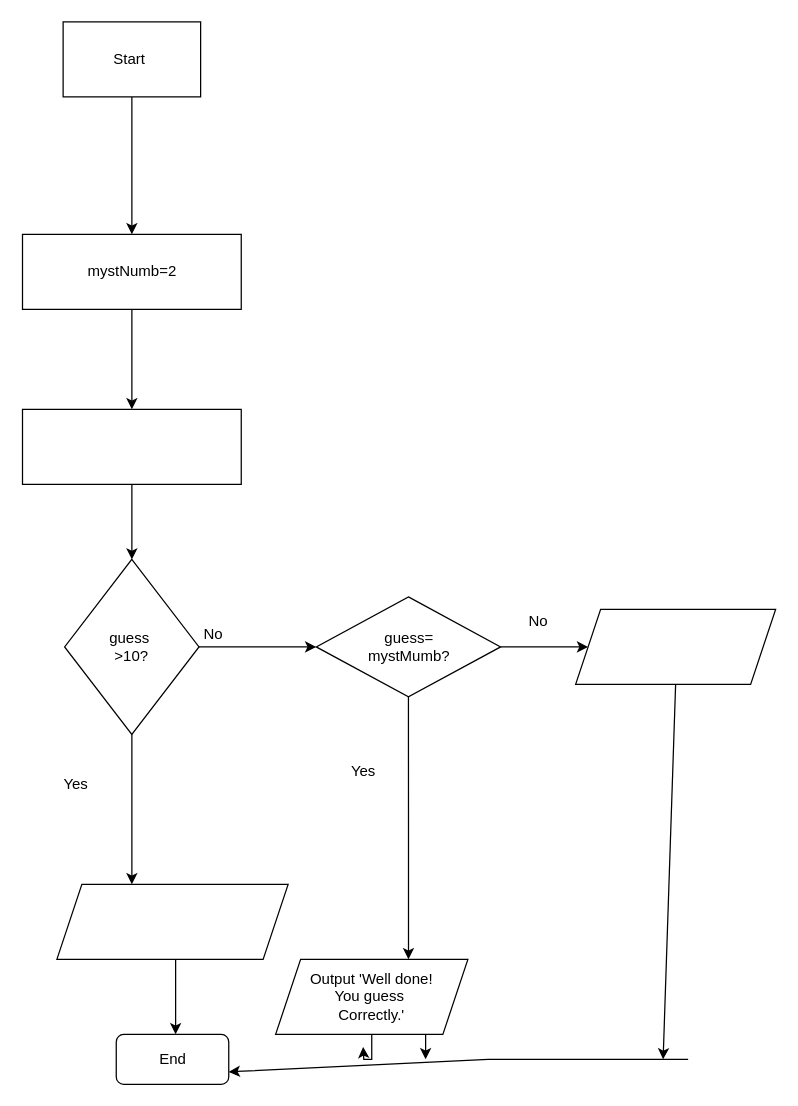
Some shapes in this 798 by 1106 pixel diagram are drawn without their labels. The shapes that lost their labels are listed below. From the top down, each one's centre as x and y in pixels, then its label:
the point at 131,446: Input guess
the point at 675,646: Output 'Bad luck! The correct number is' +mystNumb
the point at 172,921: Output 'Too high! Your guess must be between 1 and 10
